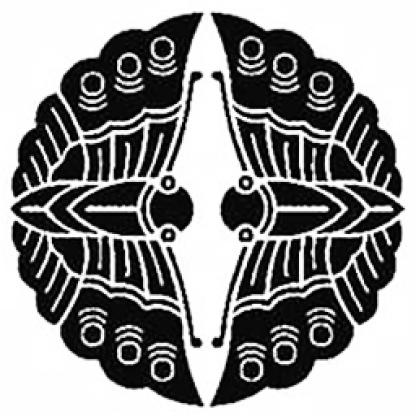kamon: (10, 11, 411, 414)
